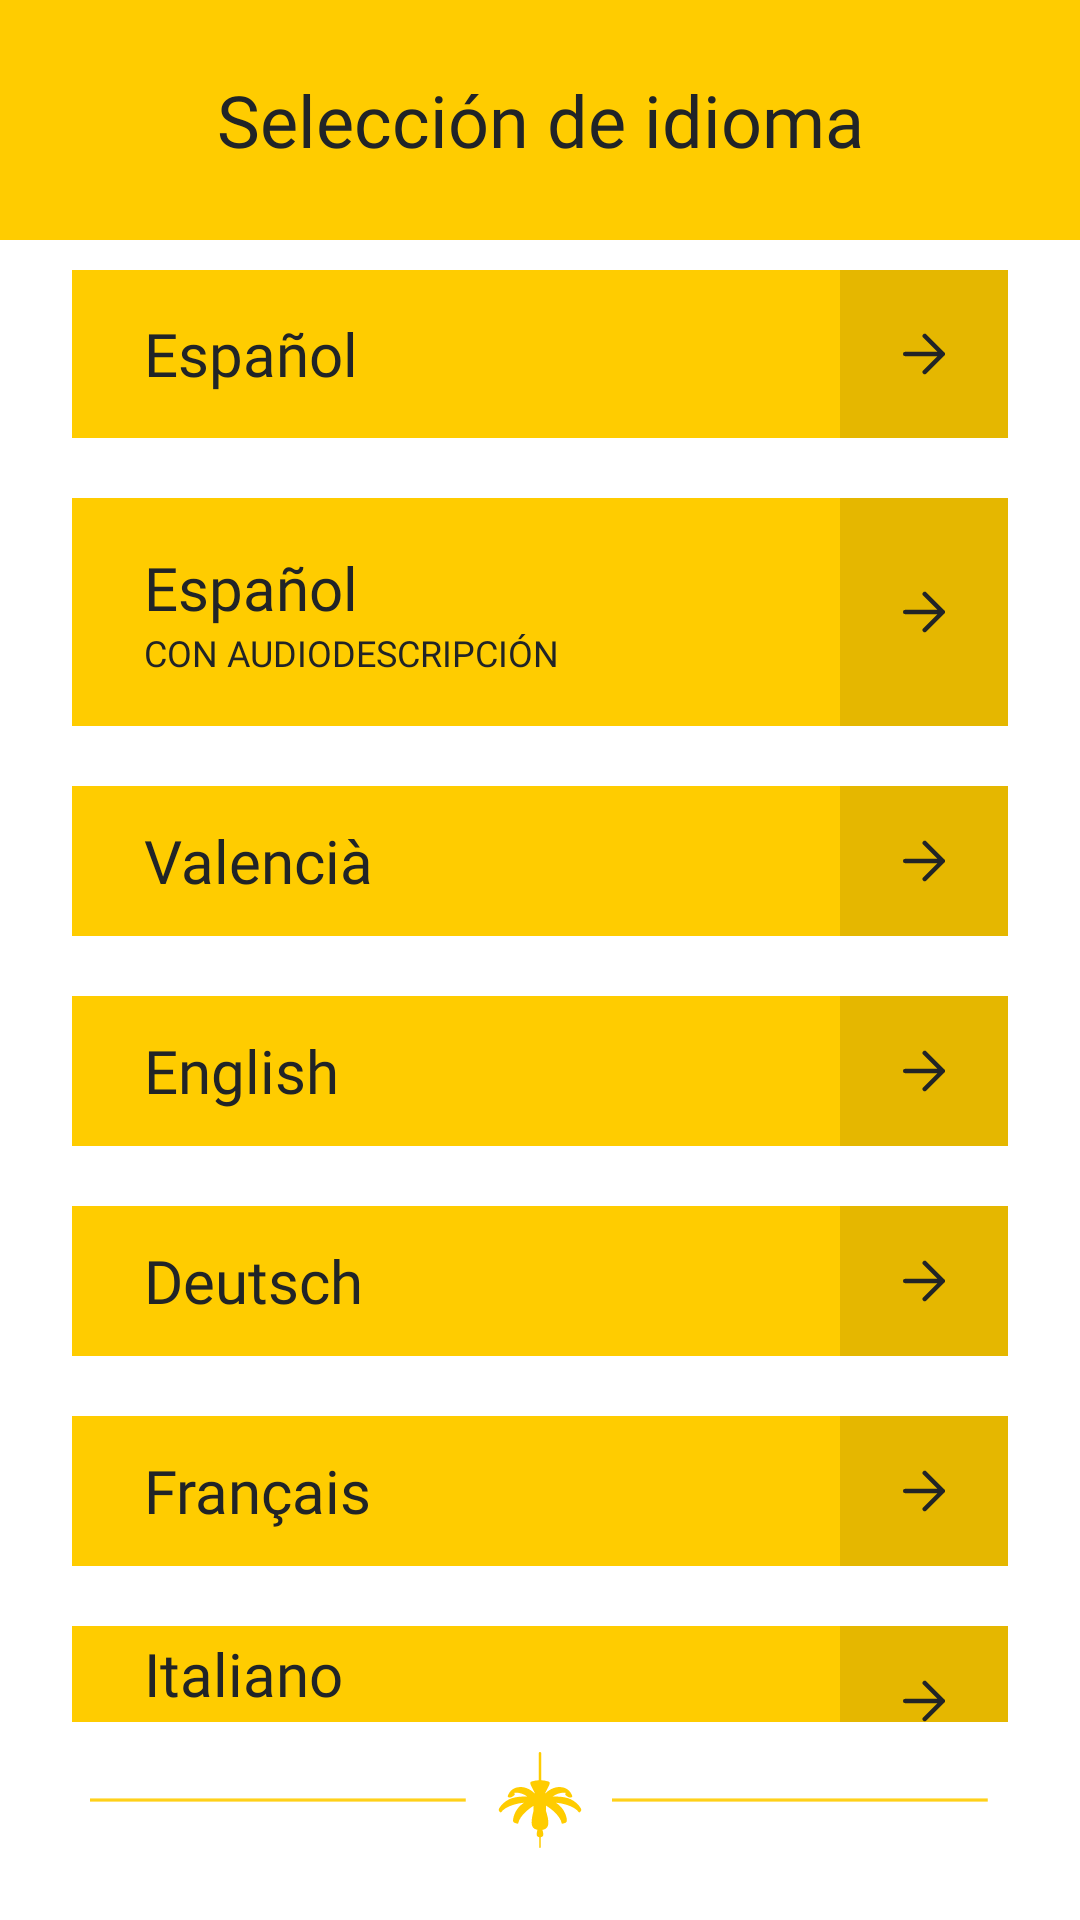

Icons on this 1080px x 1920px Android screen, each with the point to tap as point (x, y):
magrana: point (540, 1800)
